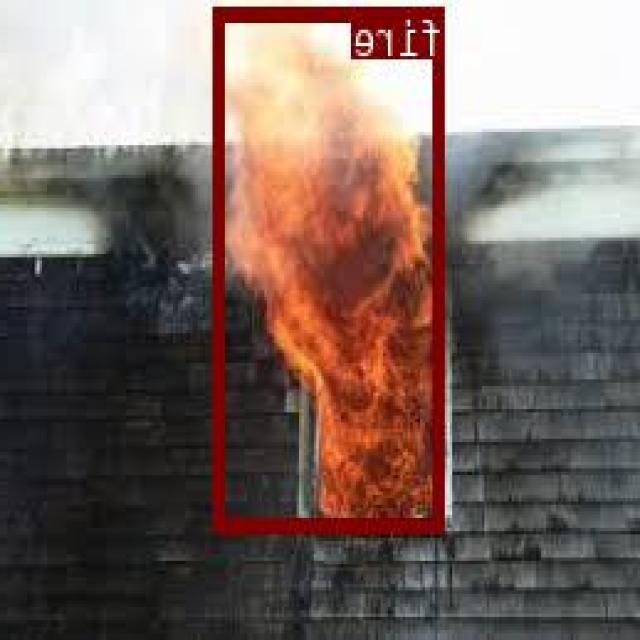fire: (217, 4, 446, 529)
